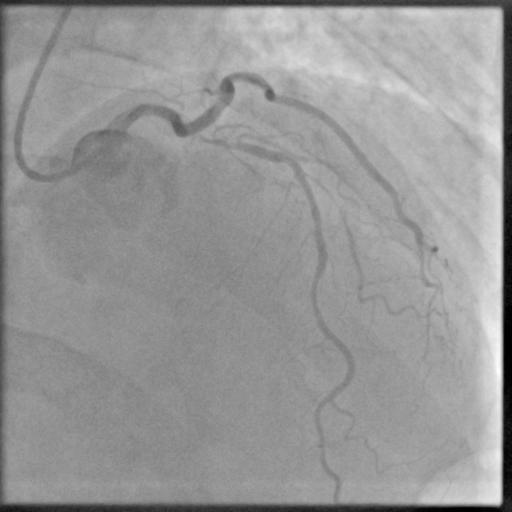Stenosis: (194, 129, 246, 152)
